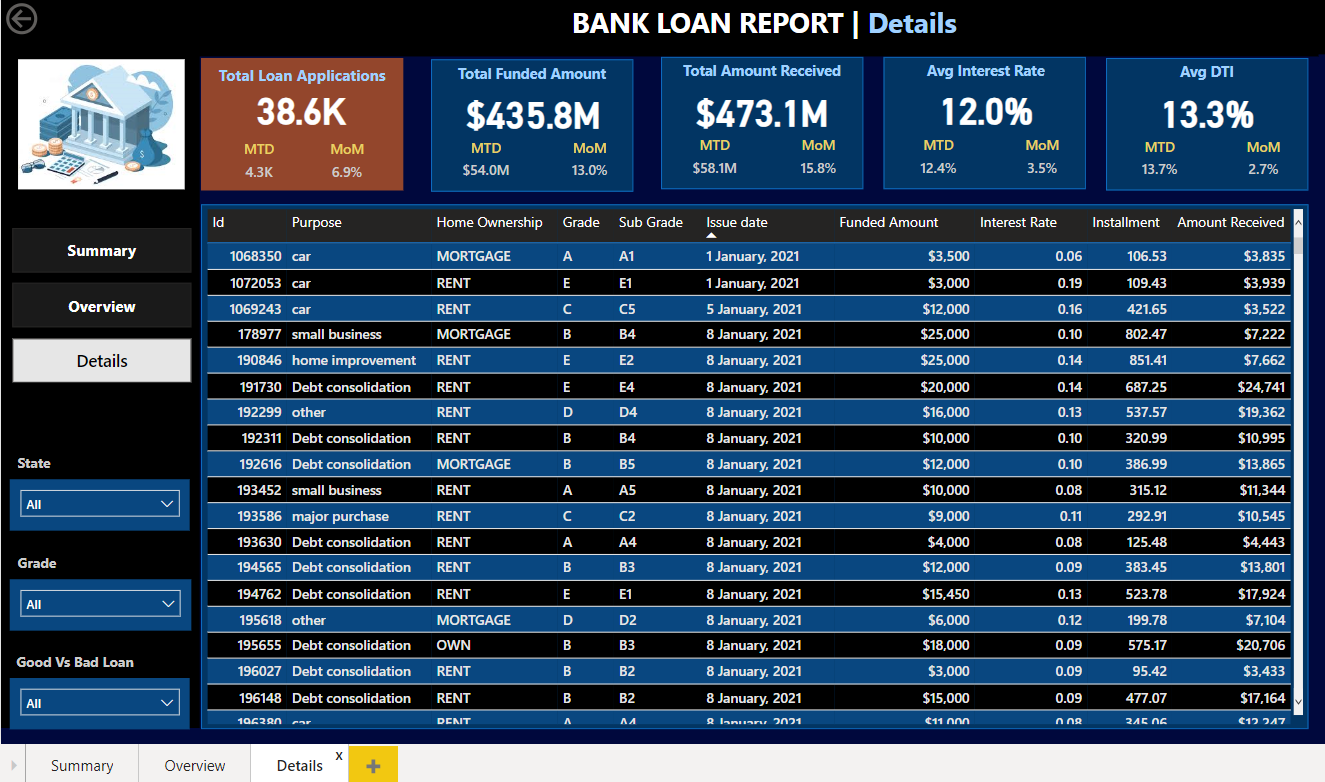

Layout of this report page (visuals, bound fields, positions):
{"tool":"powerbi","page":{"name":"Details","canvas":[1280,720],"ordinal":2},"visuals":[{"type":"shape","box":[0,39.8,191.8,664.5],"z":0},{"type":"shape","box":[193,199,1068.5,506.5],"z":1000},{"type":"shape","box":[1066.1,58.1,195.4,127.8],"z":2000},{"type":"shape","box":[851.9,56.2,195.4,127.8],"z":3000},{"type":"shape","box":[636.4,56.8,195.4,127.8],"z":4000},{"type":"shape","box":[0,1.2,1271.2,55.5],"z":5000},{"type":"shape","box":[415.1,59.3,195.4,127.8],"z":6000},{"type":"shape","box":[193,57.9,195.4,127.8],"z":7000},{"type":"textbox","box":[193.4,0,1086.6,54.3],"z":8000},{"type":"card","fields":{"Values":["bank_loan_data.Total Loan Applications"]},"box":[192,83.5,196.2,47.3],"z":9000},{"type":"textbox","box":[193,59.1,195.4,30.2],"z":10000},{"type":"card","title":"MTD","fields":{"Values":["bank_loan_data.MTD Loan Applications"]},"box":[219.5,136.3,59.1,49.4],"z":11000},{"type":"card","title":"MoM","fields":{"Values":["bank_loan_data.MoM Loan Applications"]},"box":[300.3,136.3,67.5,49.4],"z":12000},{"type":"card","fields":{"Values":["bank_loan_data.Total Funded Amount"]},"box":[415.6,87.1,195.4,47],"z":13000},{"type":"card","title":"MoM","fields":{"Values":["bank_loan_data.MoM Funded Amount"]},"box":[539.8,135.3,55.5,49.4],"z":14000},{"type":"card","title":"MTD","fields":{"Values":["bank_loan_data.MTD Funded Amount"]},"box":[433.7,135.3,67.5,49.4],"z":15000},{"type":"textbox","box":[415.3,58.1,194.8,29.2],"z":16000},{"type":"textbox","box":[636.6,55.6,194.8,29.2],"z":17000},{"type":"card","fields":{"Values":["bank_loan_data.Total Amount Received"]},"box":[637,84.2,195.4,47],"z":18000},{"type":"card","title":"MoM","fields":{"Values":["bank_loan_data.MoM Amount Received"]},"box":[761.1,132.8,55.5,49.4],"z":19000},{"type":"card","title":"MTD","fields":{"Values":["bank_loan_data.MTD Amount Received"]},"box":[655,132.8,67.5,49.4],"z":20000},{"type":"card","title":"MoM","fields":{"Values":["bank_loan_data.MOM Avg Int Rate"]},"box":[976.6,132.2,55.5,49.4],"z":21000},{"type":"card","title":"MTD","fields":{"Values":["bank_loan_data.MTD Avg Int Rate"]},"box":[870.5,132.2,67.5,49.4],"z":22000},{"type":"card","fields":{"Values":["bank_loan_data.Avg Int rate"]},"box":[852.5,83.6,195.4,47],"z":23000},{"type":"textbox","box":[852.1,55,194.8,29.2],"z":24000},{"type":"card","title":"MoM","fields":{"Values":["bank_loan_data.MoM Avg DTI"]},"box":[1190.8,134.1,55.5,49.4],"z":25000},{"type":"card","title":"MTD","fields":{"Values":["bank_loan_data.MTD Avg DTI"]},"box":[1084.7,134.1,67.5,49.4],"z":26000},{"type":"card","fields":{"Values":["bank_loan_data.Avg DTI"]},"box":[1066.7,85.5,195.4,47],"z":27000},{"type":"textbox","box":[1066.3,56.9,194.8,29.2],"z":28000},{"type":"actionButton","box":[0,0,100,40],"z":29000},{"type":"slicer","fields":{"Values":["bank_loan_data.address_state"]},"box":[8.4,464.3,173.7,49.4],"z":30000},{"type":"textbox","box":[10.9,434.2,137.5,30.2],"z":31000},{"type":"textbox","box":[10.9,530.7,137.5,30.2],"z":32000},{"type":"slicer","fields":{"Values":["bank_loan_data.grade"]},"box":[8.4,560.8,174.9,49.4],"z":33000},{"type":"textbox","box":[9.6,625.9,137.5,30.2],"z":34000},{"type":"slicer","fields":{"Values":["bank_loan_data.Good Vs Bad Loan"]},"box":[8.4,656.1,173.7,49.4],"z":35000},{"type":"tableEx","fields":{"Values":["bank_loan_data.id","bank_loan_data.purpose","bank_loan_data.home_ownership","bank_loan_data.grade","bank_loan_data.sub_grade","bank_loan_data.issue_date","bank_loan_data.Total Funded Amount","Sum(bank_loan_data.int_rate)","Sum(bank_loan_data.installment)","bank_loan_data.Total Amount Received"]},"box":[193,199,1068.5,506.5],"z":36000},{"type":"image","box":[8.4,54.3,176.1,135.1],"z":37000},{"type":"pageNavigator","box":[10.9,221.9,173.7,152],"z":38000}]}

Visuals, with their boxes on the page's 1280x720 design canvas (x1, y1, x2, y2). These are canvas units, not pixel positions in the 1325x782 screenshot, which may show the page scaled, cropped or inside an application window:
shape: rect(0, 40, 192, 704)
shape: rect(193, 199, 1262, 706)
shape: rect(1066, 58, 1262, 186)
shape: rect(852, 56, 1047, 184)
shape: rect(636, 57, 832, 185)
shape: rect(0, 1, 1271, 57)
shape: rect(415, 59, 610, 187)
shape: rect(193, 58, 388, 186)
textbox: rect(193, 0, 1280, 54)
card - bank_loan_data.Total Loan Applications: rect(192, 84, 388, 131)
textbox: rect(193, 59, 388, 89)
"MTD" card: rect(220, 136, 279, 186)
"MoM" card: rect(300, 136, 368, 186)
card - bank_loan_data.Total Funded Amount: rect(416, 87, 611, 134)
"MoM" card: rect(540, 135, 595, 185)
"MTD" card: rect(434, 135, 501, 185)
textbox: rect(415, 58, 610, 87)
textbox: rect(637, 56, 831, 85)
card - bank_loan_data.Total Amount Received: rect(637, 84, 832, 131)
"MoM" card: rect(761, 133, 817, 182)
"MTD" card: rect(655, 133, 722, 182)
"MoM" card: rect(977, 132, 1032, 182)
"MTD" card: rect(870, 132, 938, 182)
card - bank_loan_data.Avg Int rate: rect(852, 84, 1048, 131)
textbox: rect(852, 55, 1047, 84)
"MoM" card: rect(1191, 134, 1246, 184)
"MTD" card: rect(1085, 134, 1152, 184)
card - bank_loan_data.Avg DTI: rect(1067, 86, 1262, 132)
textbox: rect(1066, 57, 1261, 86)
actionButton: rect(0, 0, 100, 40)
slicer - bank_loan_data.address_state: rect(8, 464, 182, 514)
textbox: rect(11, 434, 148, 464)
textbox: rect(11, 531, 148, 561)
slicer - bank_loan_data.grade: rect(8, 561, 183, 610)
textbox: rect(10, 626, 147, 656)
slicer - bank_loan_data.Good Vs Bad Loan: rect(8, 656, 182, 706)
tableEx - bank_loan_data.id x bank_loan_data.purpose: rect(193, 199, 1262, 706)
image: rect(8, 54, 184, 189)
pageNavigator: rect(11, 222, 185, 374)
